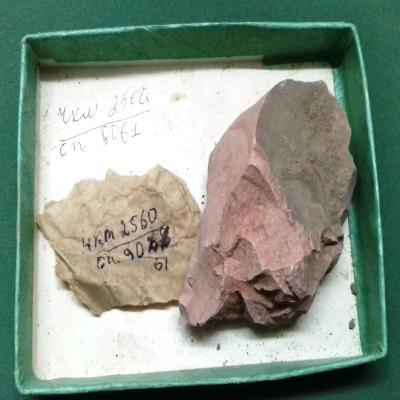mineralogy: (180, 80, 355, 327)
